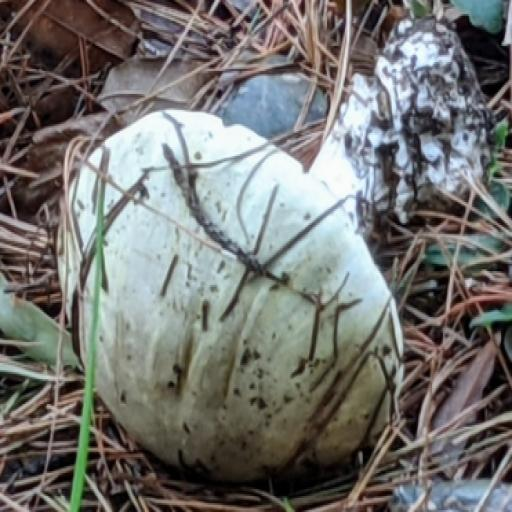Death Cap: (9, 0, 512, 512)
